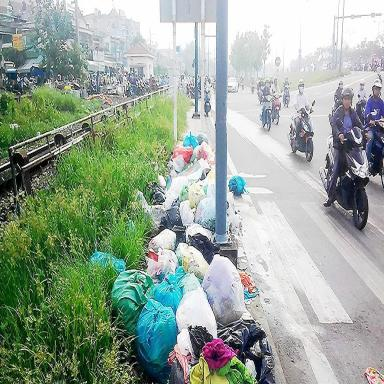plasticbag: (110, 127, 280, 383), (135, 289, 180, 381), (111, 264, 151, 337), (201, 256, 243, 323), (175, 288, 223, 345), (228, 173, 246, 196)
